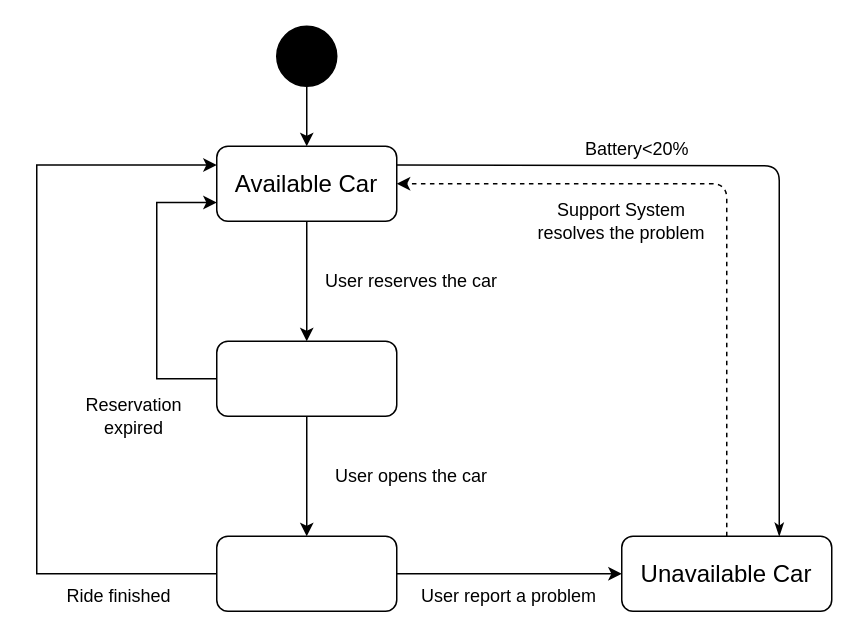
This 858x638 diagram has some shape labels left out. The shapes that lost their labels are listed below. From the top down, each one's centre as x and y in pixels, then its label:
At (306,378): "Reserved Car".
At (306,573): "Used Car".
